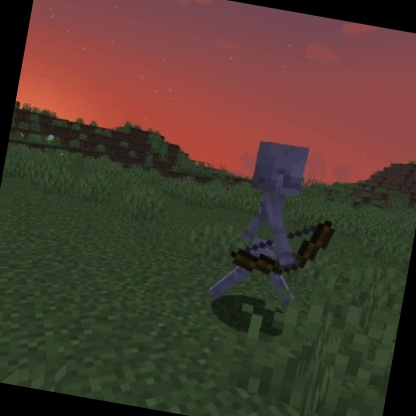skeleton: (202, 130, 352, 323)
